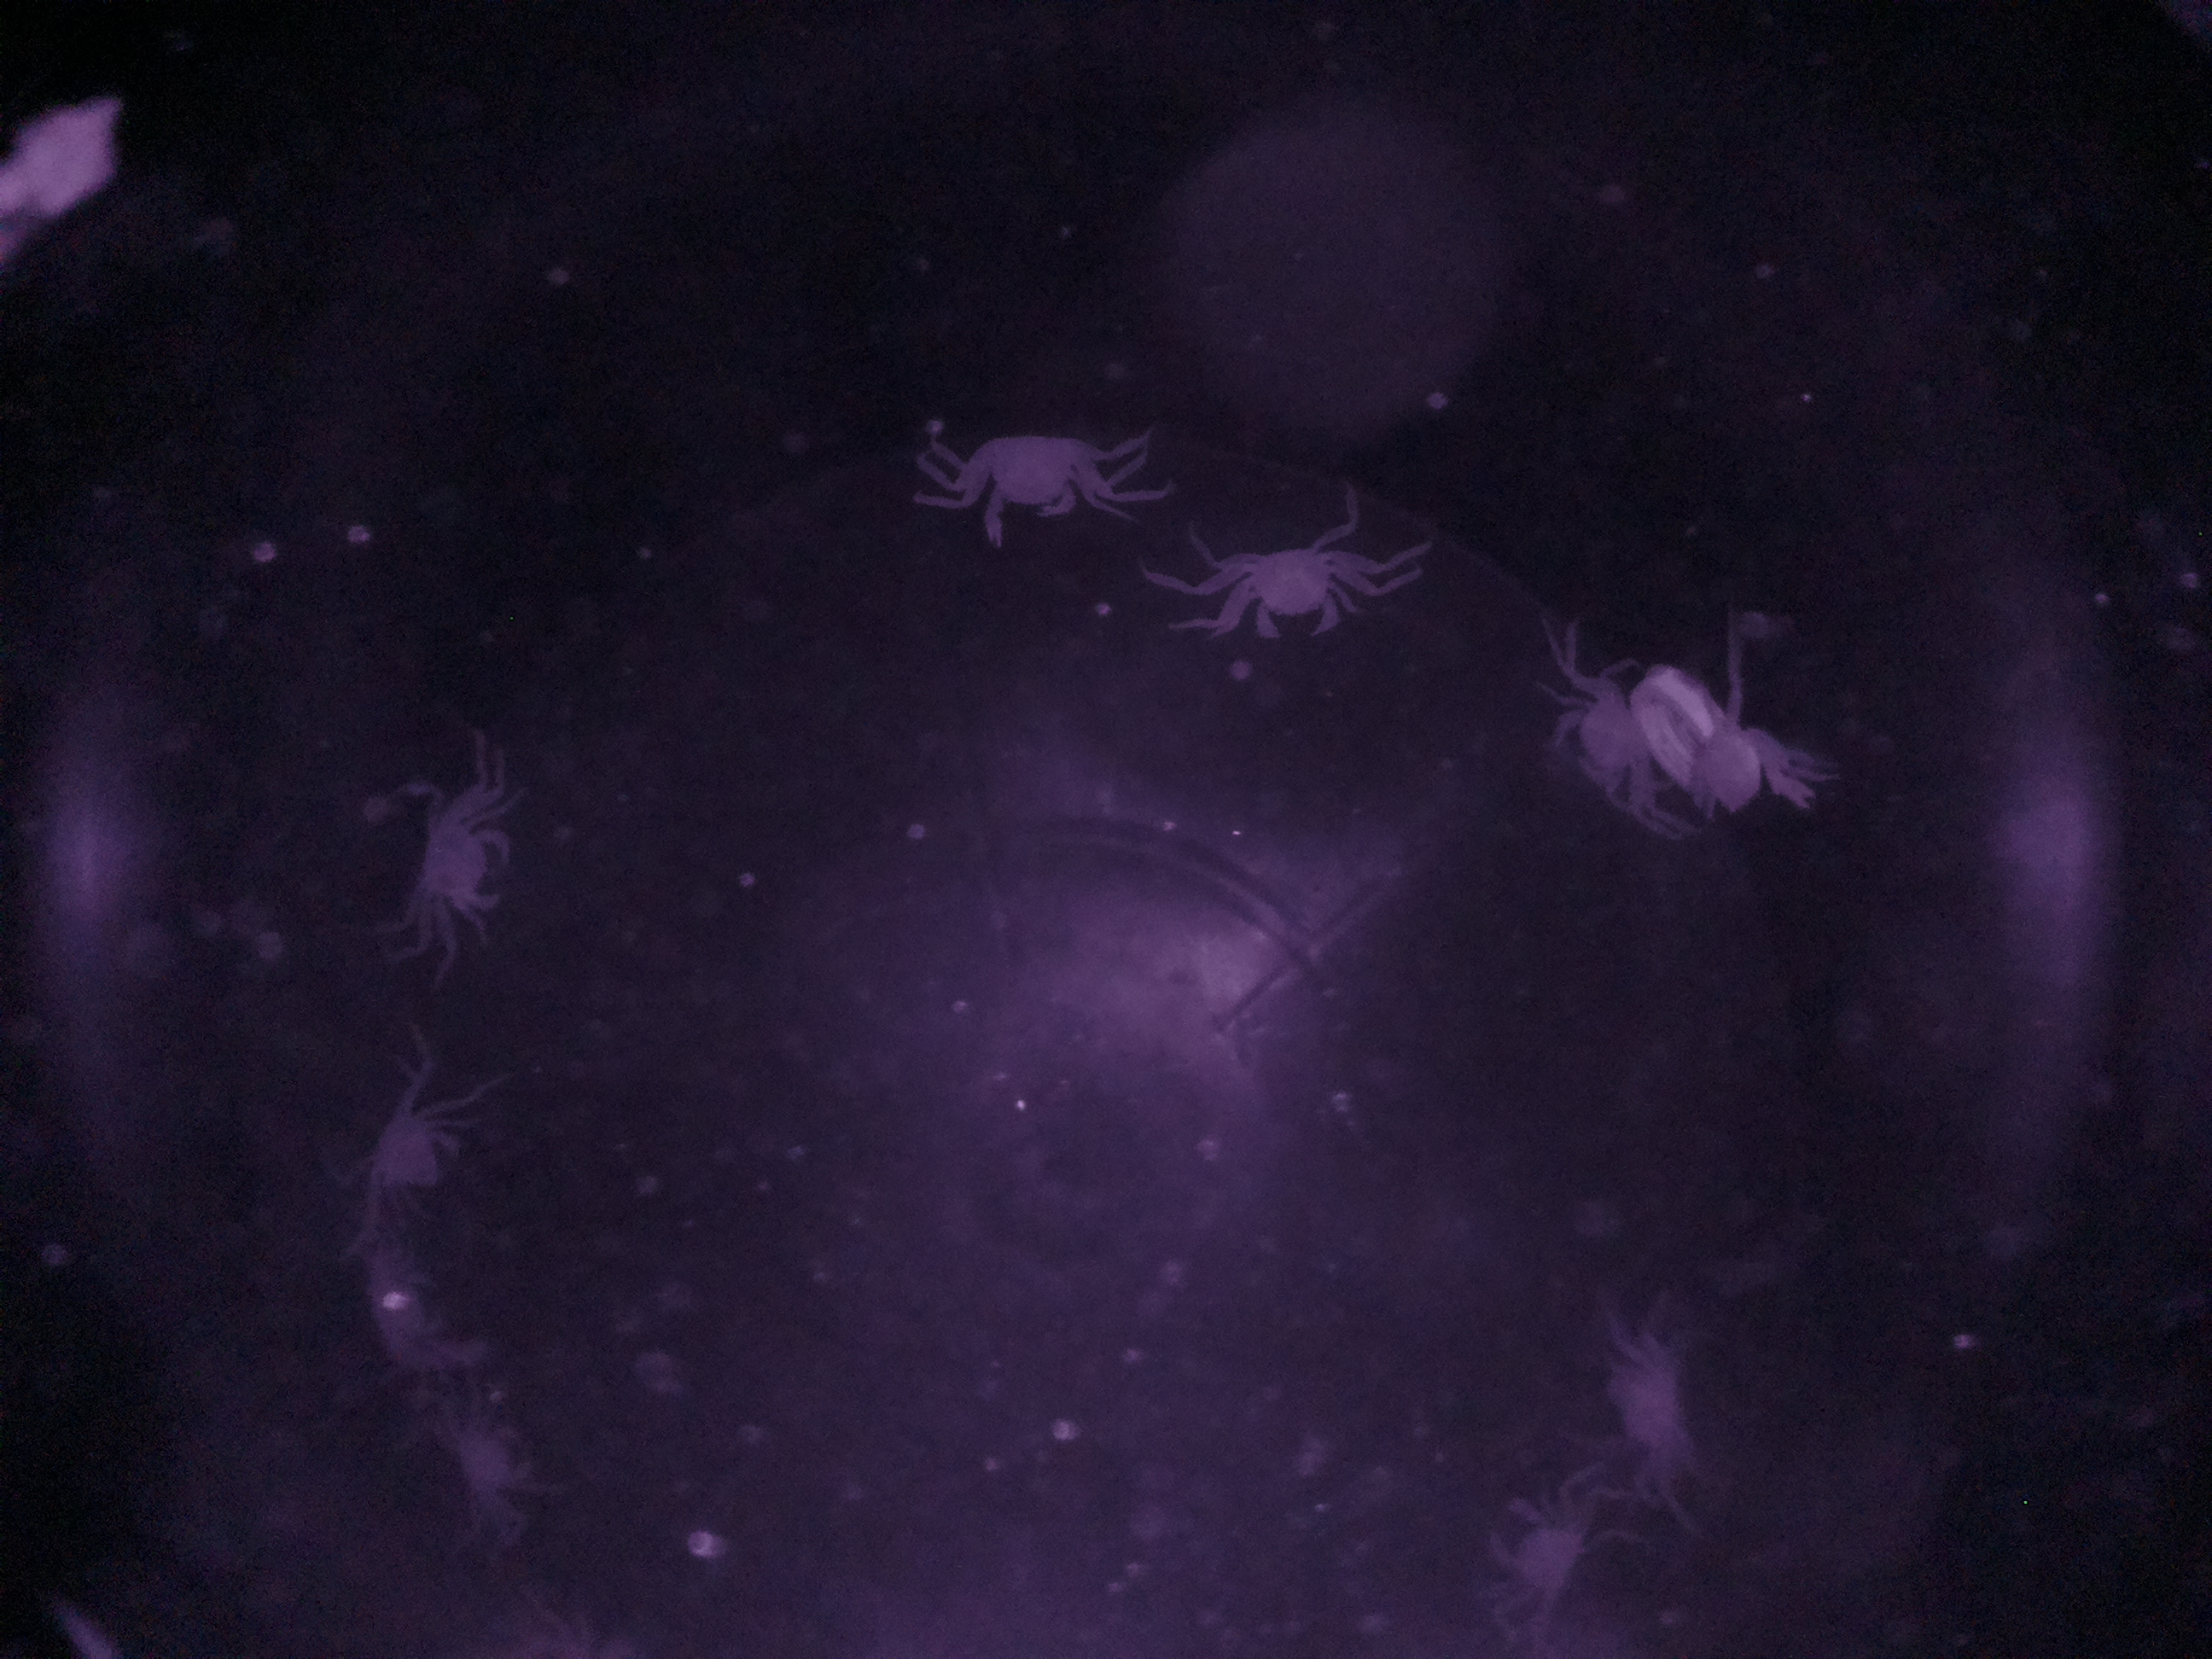Crab: (1188, 502, 1378, 664), (368, 775, 549, 938), (918, 410, 1111, 558), (1526, 652, 1679, 817)
